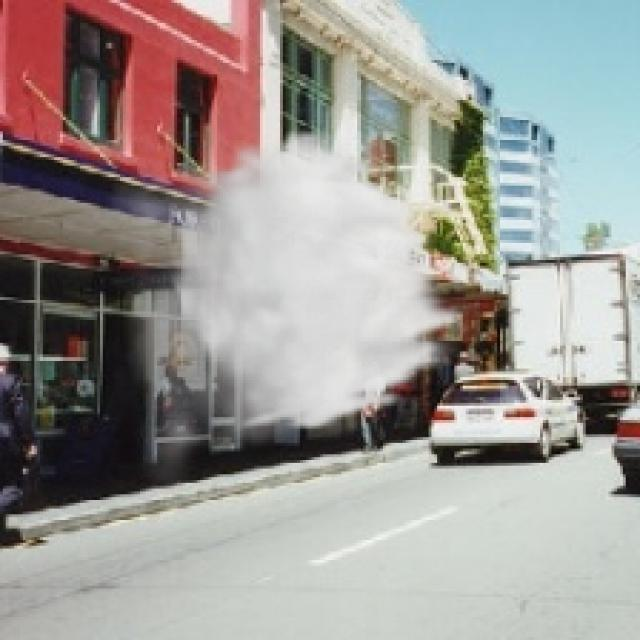Smoke: (100, 126, 472, 497)
